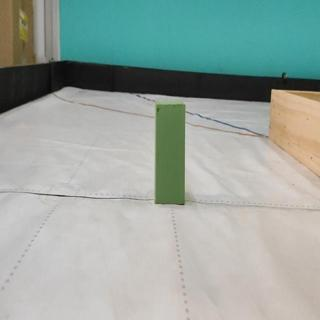greenbox: (153, 101, 186, 205)
